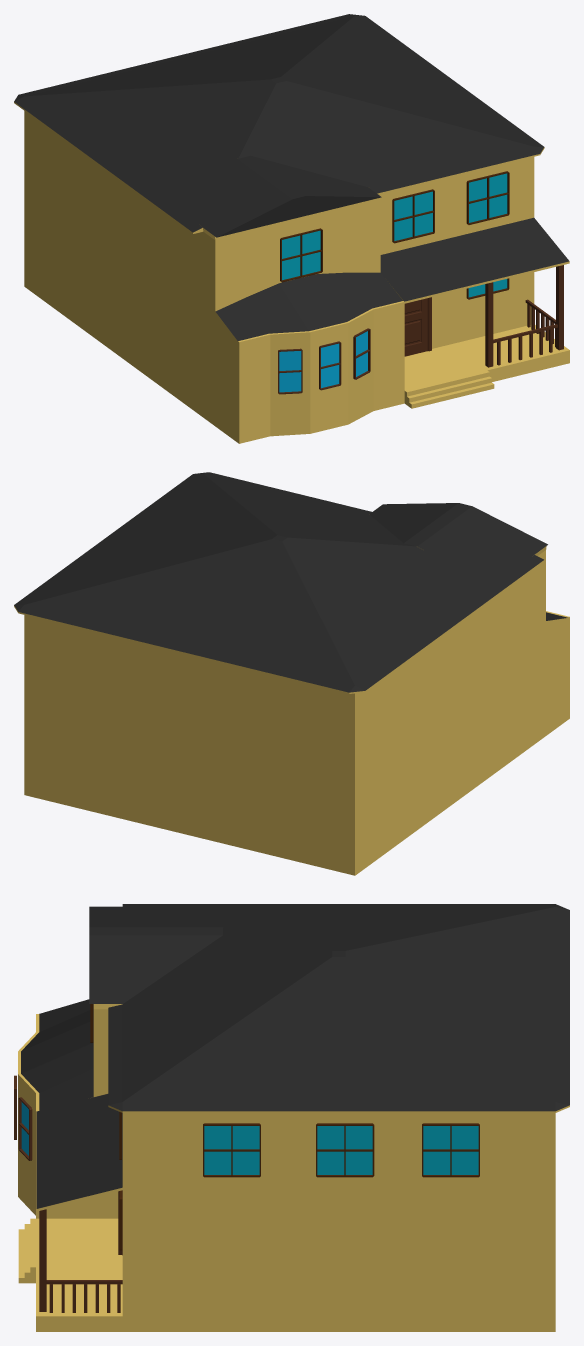
Rendered from House4.fbx.
3 views of the same model, one above another, from view 1: azimuth 30°, elevation 25°; view 2: azimuth 150°, elevation 25°; view 3: azimuth 270°, elevation 25° (orthographic). The views are drawn at different scales.
Visible parts, largest first — view 1: Plane, Plane.008, Plane.003, Plane.001, Door, Plane.007, Plane.005, Plane.006, Cube, Cube.001; view 2: Plane; view 3: Plane, Plane.009, Plane.004, Plane.012, Plane.006, Cube.001.
Boxes of the visible parts, <box> form: Plane: <box>14,14,569,443</box>; Plane.008: <box>466,171,509,224</box>; Plane.003: <box>392,189,434,243</box>; Plane.001: <box>280,228,322,282</box>; Door: <box>404,298,427,356</box>; Plane.007: <box>278,348,302,394</box>; Plane.005: <box>319,341,341,390</box>; Plane.006: <box>353,328,370,379</box>; Cube: <box>485,282,493,367</box>; Cube.001: <box>556,265,563,350</box>; Plane: <box>14,472,569,875</box>; Plane: <box>18,904,569,1331</box>; Plane.009: <box>316,1123,374,1177</box>; Plane.004: <box>203,1123,260,1177</box>; Plane.012: <box>422,1123,479,1177</box>; Plane.006: <box>18,1097,32,1160</box>; Cube.001: <box>39,1209,46,1311</box>.
Size of the model in its own units: 850 by 536 by 963.
